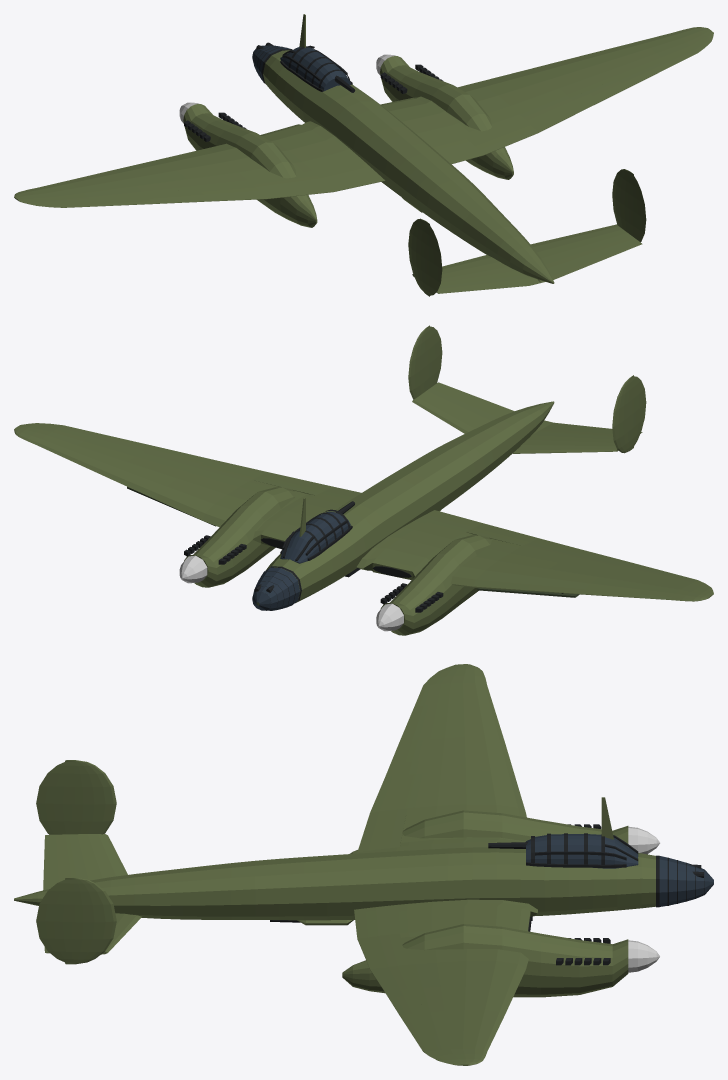
3 views of the same model, one above another, from view 1: azimuth 30°, elevation 25°; view 2: azimuth 150°, elevation 25°; view 3: azimuth 270°, elevation 25° (orthographic). The views are drawn at different scales.
Parts seen in each view (by area): view 1: Fuselage, Wing R, Wing L, Nacelles, Flap L, Flap R, Stabilizer R, Aileron R, Elevator R, Aileron L, Cockpit Glass, Stabilizer L (+7 smaller); view 2: Fuselage, Wing L, Wing R, Nacelles, Flap R, Flap L, Stabilizer L, Stabilizer R, Nose Glass, Cockpit Glass, Vertical Fin, Vertical Fin 2 (+10 smaller); view 3: Fuselage, Wing R, Wing L, Nacelles, Flap R, Flap L, Vertical Fin 2, Vertical Fin, Rudder 2, Cockpit Glass, Stabilizer L, Rudder (+6 smaller).
Part boxes in pixels (left/top/right/bottom): Fuselage: left=263, top=50, right=554, bottom=283; Wing R: left=380, top=27, right=713, bottom=146; Wing L: left=14, top=121, right=385, bottom=206; Nacelles: left=183, top=56, right=513, bottom=227; Flap L: left=185, top=163, right=378, bottom=201; Flap R: left=431, top=93, right=593, bottom=164; Stabilizer R: left=531, top=224, right=632, bottom=264; Aileron R: left=587, top=41, right=707, bottom=102; Elevator R: left=538, top=236, right=642, bottom=282; Aileron L: left=41, top=190, right=189, bottom=207; Cockpit Glass: left=280, top=47, right=350, bottom=91; Stabilizer L: left=412, top=255, right=518, bottom=283; Fuselage: left=256, top=401, right=554, bottom=605; Wing L: left=357, top=510, right=713, bottom=601; Wing R: left=14, top=423, right=346, bottom=549; Nacelles: left=184, top=487, right=491, bottom=635; Flap R: left=185, top=456, right=361, bottom=502; Flap L: left=422, top=511, right=593, bottom=558; Stabilizer L: left=513, top=430, right=618, bottom=453; Stabilizer R: left=412, top=388, right=498, bottom=433; Nose Glass: left=252, top=567, right=299, bottom=610; Cockpit Glass: left=280, top=511, right=350, bottom=563; Vertical Fin: left=612, top=377, right=632, bottom=453; Vertical Fin 2: left=408, top=327, right=428, bottom=399; Fuselage: left=14, top=847, right=655, bottom=920; Wing R: left=354, top=899, right=537, bottom=1065; Wing L: left=388, top=664, right=526, bottom=850; Nacelles: left=342, top=810, right=628, bottom=997; Flap R: left=354, top=907, right=418, bottom=997; Flap L: left=357, top=765, right=418, bottom=853; Vertical Fin 2: left=72, top=877, right=116, bottom=964; Vertical Fin: left=72, top=760, right=116, bottom=834; Rudder 2: left=36, top=878, right=71, bottom=964; Cockpit Glass: left=526, top=834, right=638, bottom=868; Stabilizer L: left=66, top=834, right=127, bottom=880; Rudder: left=36, top=760, right=71, bottom=834.
Size of the model in its own units: 17.14 by 2.81 by 12.66.
